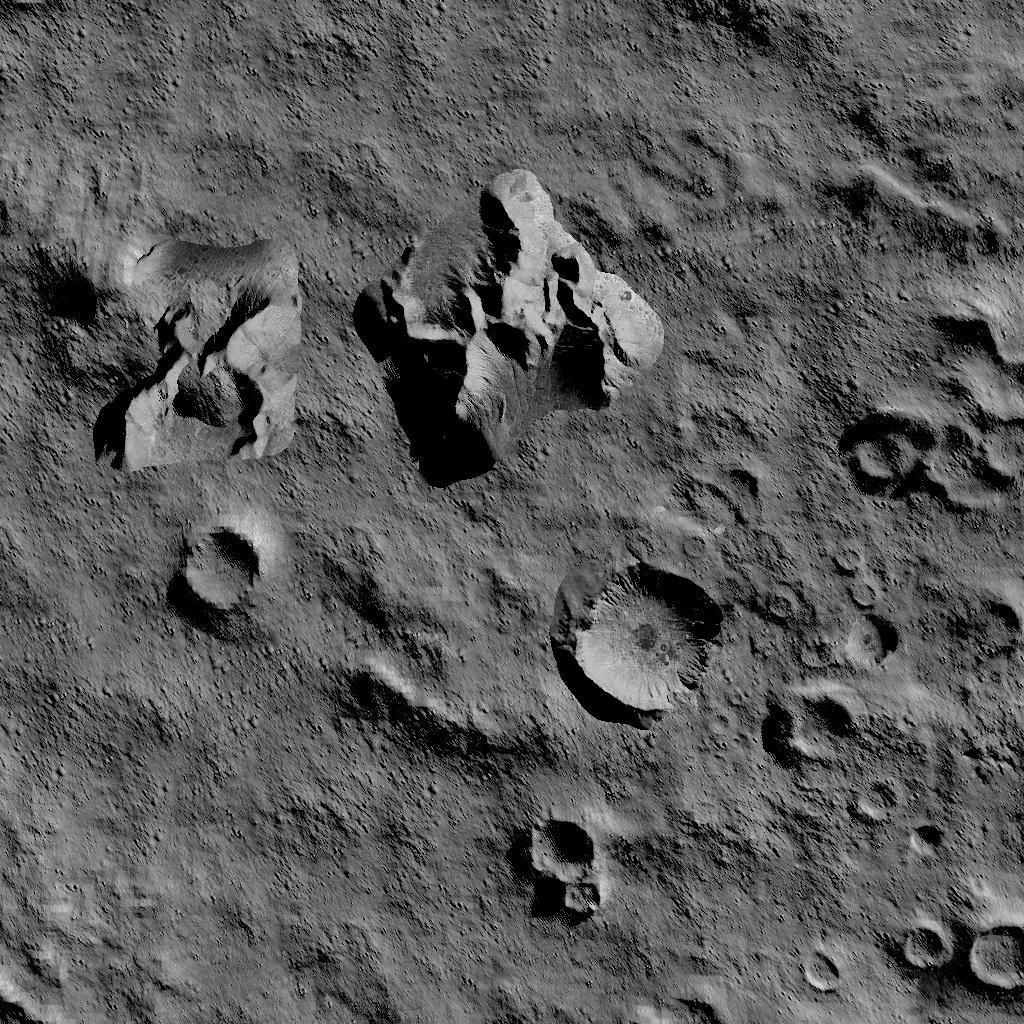Boulders: (357, 174, 664, 482), (51, 220, 319, 473)
Crater: (829, 316, 1024, 514), (554, 556, 726, 720), (884, 908, 1022, 992), (176, 518, 270, 616), (762, 680, 864, 770), (526, 814, 613, 918), (605, 980, 730, 1024), (956, 589, 1014, 662), (842, 608, 894, 667), (796, 940, 844, 992), (841, 777, 896, 817), (904, 814, 940, 850)
Plan surface: (3, 628, 357, 968), (0, 0, 351, 209), (673, 0, 818, 457), (366, 0, 656, 166), (365, 748, 517, 1024), (827, 0, 1024, 192), (0, 480, 165, 617)
